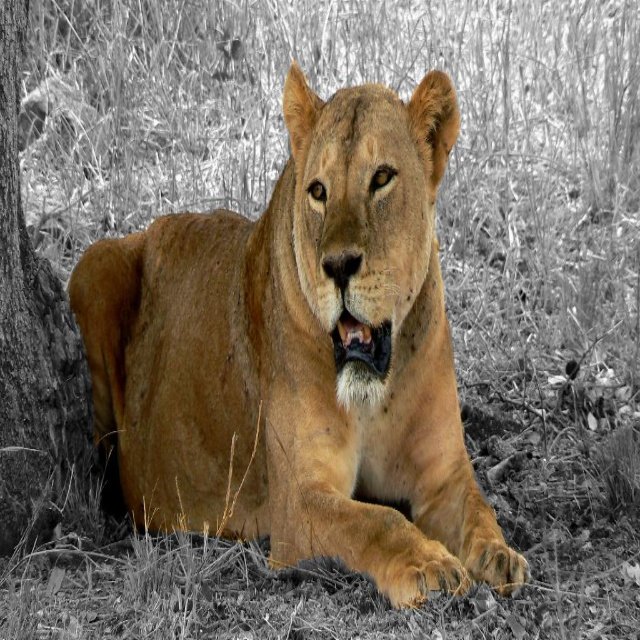Lion: (66, 59, 530, 609)
